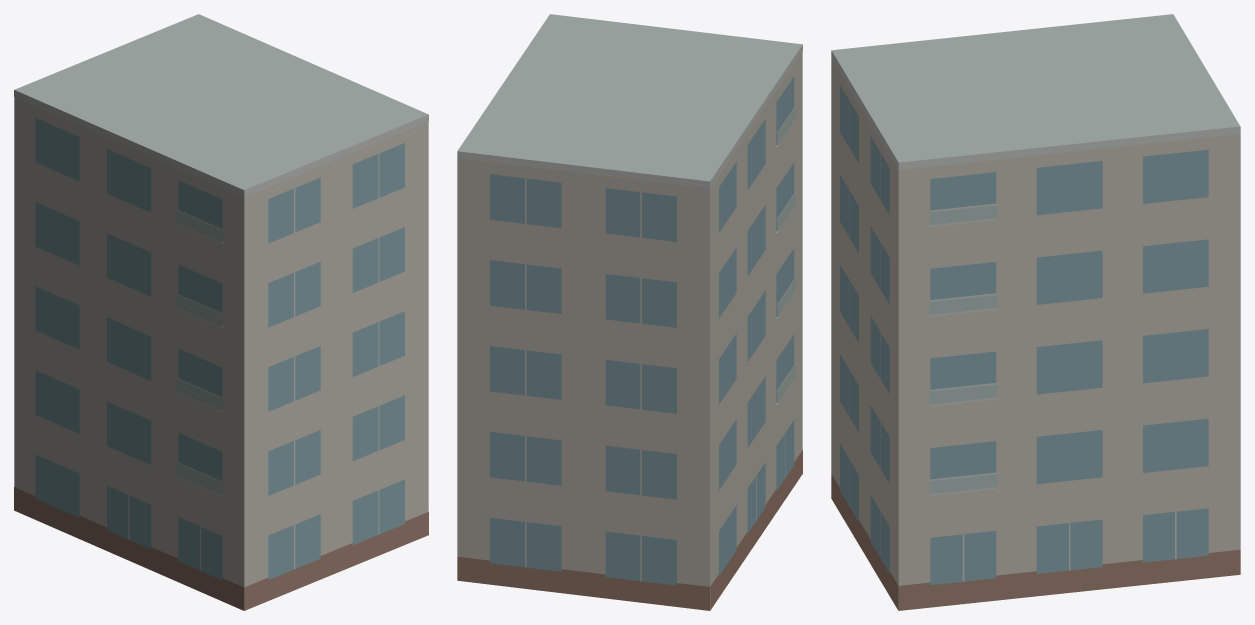
The model's file is survey-upis-32721298.glb.
3 views of the same model, side by side, from view 1: azimuth 30°, elevation 25°; view 2: azimuth 150°, elevation 25°; view 3: azimuth 270°, elevation 25° (orthographic). The views are drawn at different scales.
Visible parts, largest first — view 1: survey-upis-32721298.tmp; view 2: survey-upis-32721298.tmp; view 3: survey-upis-32721298.tmp.
Part boxes in pixels (bbox=[...]): survey-upis-32721298.tmp: bbox=[14, 14, 428, 610]; survey-upis-32721298.tmp: bbox=[457, 14, 802, 610]; survey-upis-32721298.tmp: bbox=[831, 14, 1240, 610].
Bounding box in the file's own units: 10.32 × 14.5 × 12.
